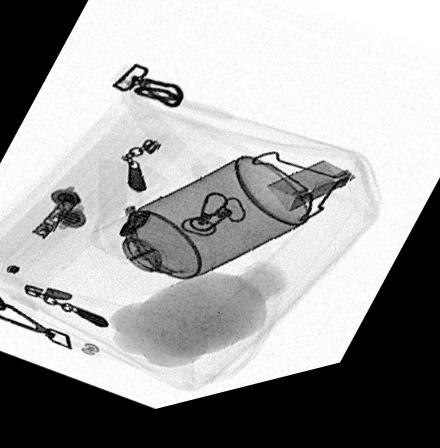Sprayer: (79, 164, 311, 306)
